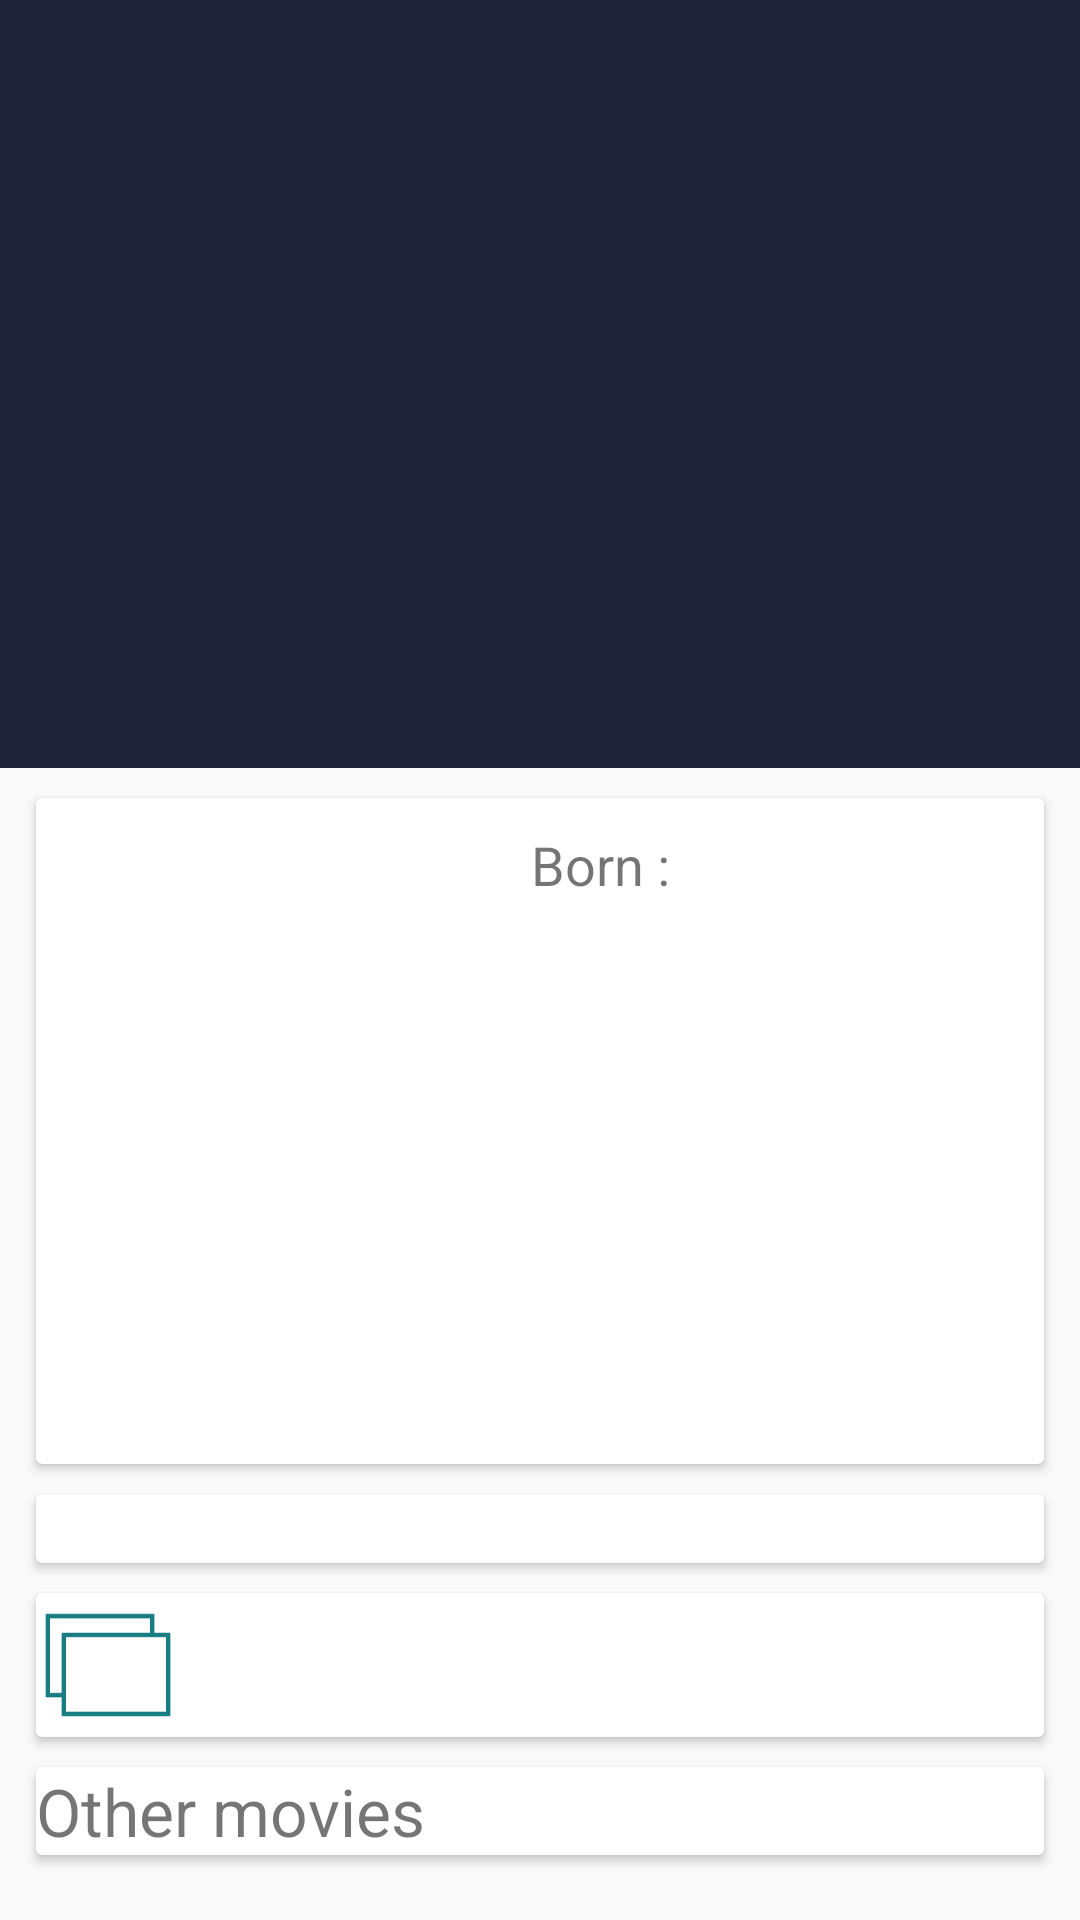

Locate icon controls on the screen. Image size 1080×1920, boxes as {"x1": x1, "y1": y1, "x2": x2, "y2": y2}.
gallery: {"x1": 45, "y1": 1613, "x2": 171, "y2": 1717}
